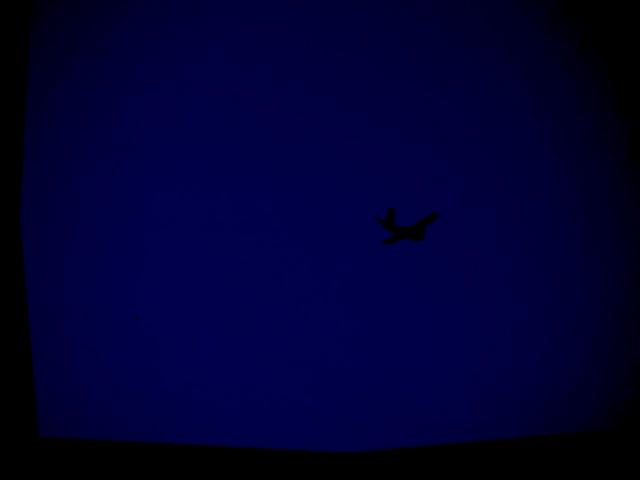plane: (365, 208, 436, 258)
